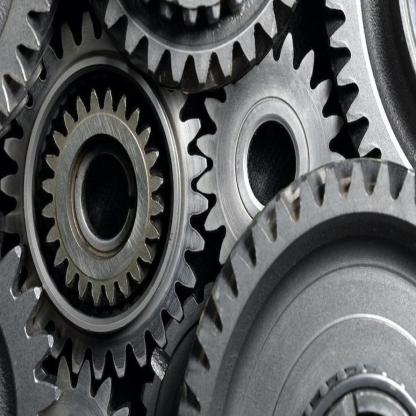FOD: (0, 7, 210, 382), (175, 150, 415, 415), (197, 28, 348, 279), (39, 87, 166, 313), (95, 0, 300, 87)
